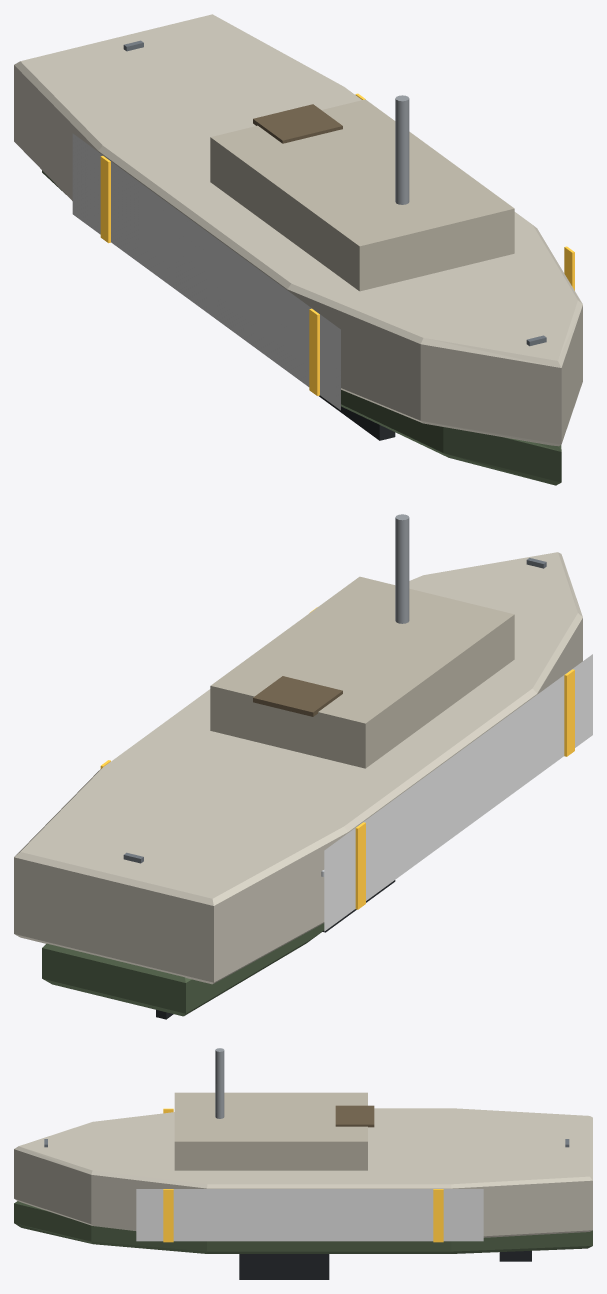
File: fleet--derelictBoat.glb
3 views of the same model, one above another, from view 1: azimuth 30°, elevation 25°; view 2: azimuth 150°, elevation 25°; view 3: azimuth 270°, elevation 25° (orthographic). The views are drawn at different scales.
Visible parts, largest first — view 1: derelictBoat:shell, hatch, slingBow, slingStern; view 2: derelictBoat:shell, hatch, slingStern, slingBow; view 3: derelictBoat:shell, hatch, slingBow, slingStern.
Boxes of the visible parts, x1=… form: derelictBoat:shell: x1=14, y1=14, x2=582, y2=485; hatch: x1=253, y1=104, x2=342, y2=143; slingBow: x1=309, y1=246, x2=574, y2=395; slingStern: x1=100, y1=93, x2=365, y2=243; derelictBoat:shell: x1=14, y1=514, x2=592, y2=1019; hatch: x1=253, y1=676, x2=342, y2=716; slingStern: x1=100, y1=760, x2=365, y2=909; slingBow: x1=310, y1=607, x2=574, y2=756; derelictBoat:shell: x1=14, y1=1048, x2=592, y2=1279; hatch: x1=335, y1=1105, x2=374, y2=1127; slingBow: x1=163, y1=1108, x2=173, y2=1242; slingStern: x1=433, y1=1189, x2=443, y2=1242.
Bounding box in the file's own units: 2.99 × 3.9 × 9.
